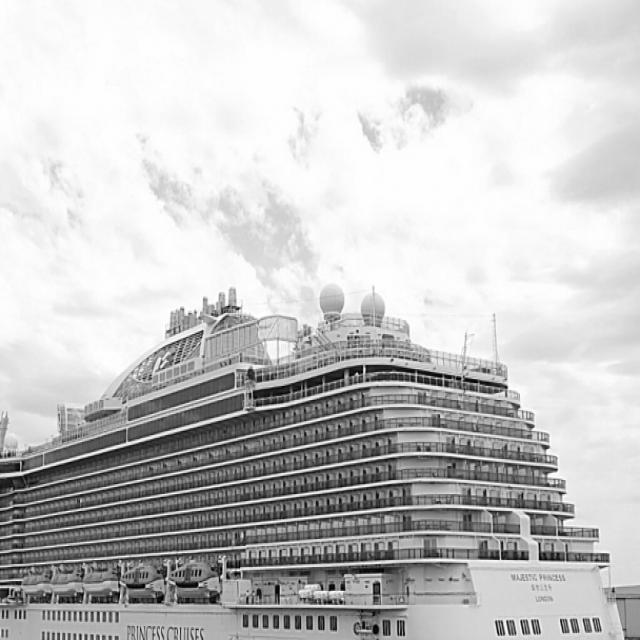cruises: (1, 279, 640, 640)
